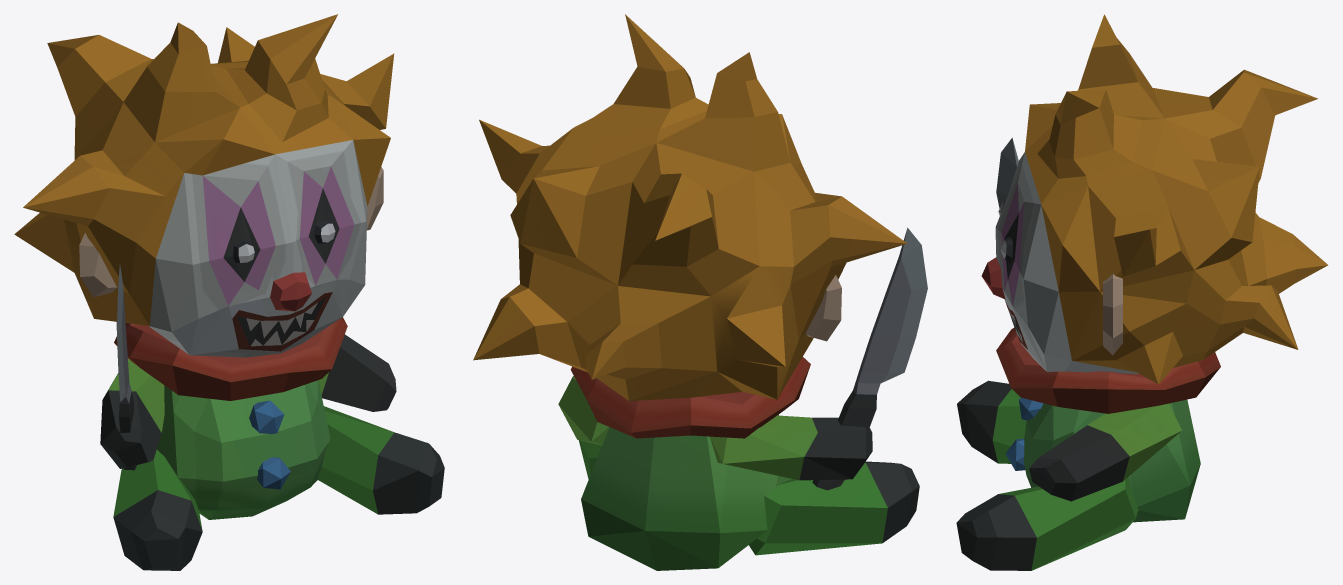
The model's file is SM_Prop_Plushie_02.glb.
3 renders of one model, left to right at view 1: azimuth 30°, elevation 25°; view 2: azimuth 150°, elevation 25°; view 3: azimuth 270°, elevation 25°, orthographic. The views are drawn at different scales.
Visible parts, largest first — view 1: SM_Prop_Plushie_02; view 2: SM_Prop_Plushie_02; view 3: SM_Prop_Plushie_02.
Boxes of the visible parts, <box> form: SM_Prop_Plushie_02: <box>14,14,444,570</box>; SM_Prop_Plushie_02: <box>473,14,927,570</box>; SM_Prop_Plushie_02: <box>956,14,1328,570</box>.
Bounding box in the file's own units: 34.64 × 41.13 × 29.41.
Materials: 1 (1 with a texture image).
